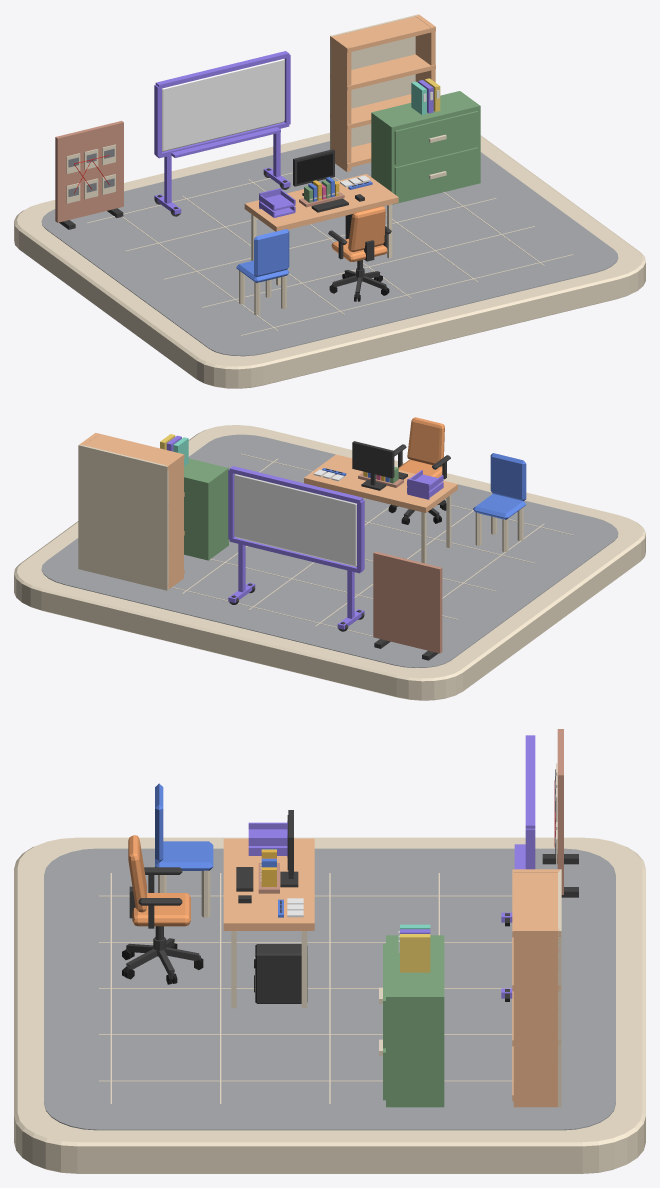
Rendered from room.fbx.
The picture shows the model from 3 angles, top to bottom: view 1: azimuth 30°, elevation 25°; view 2: azimuth 150°, elevation 25°; view 3: azimuth 270°, elevation 25°; orthographic projection. The views are drawn at different scales.
Parts seen in each view (by area): view 1: COM-02 Floor Surface, COM-01 Rounded Base Direct, Cabinet, Writing surface, Panel, Top, Back, COM-04_Chair_blender_direct, Side, Shelf.003, Shelf.002, Backrest (+7 smaller); view 2: COM-02 Floor Surface, COM-01 Rounded Base Direct, Back, Writing surface, Panel, Cabinet, Top, COM-04_Chair_blender_direct, Side, Backrest, Frame, Shelf.003 (+5 smaller); view 3: COM-02 Floor Surface, COM-01 Rounded Base Direct, Cabinet, Side.001, Top, COM-04_Chair_blender_direct, Shelf.003, Tower, Seat, File.002, Panel, Frame rail.001 (+5 smaller).
Boxes of the visible parts, x1,y1,x2,y2 form: COM-02 Floor Surface: (41,141,618,356); COM-01 Rounded Base Direct: (14,132,645,388); Cabinet: (371,91,480,204); Writing surface: (162,58,284,151); Panel: (55,121,123,222); Top: (244,174,398,285); Back: (330,14,418,149); COM-04_Chair_blender_direct: (328,206,391,301); Side: (330,35,351,171); Shelf.003: (330,16,435,52); Shelf.002: (330,54,435,90); Backrest: (254,229,289,277); COM-02 Floor Surface: (41,434,618,667); COM-01 Rounded Base Direct: (14,425,645,700); Back: (78,444,168,590); Writing surface: (234,473,356,566); Panel: (373,551,442,653); Cabinet: (184,458,228,560); Top: (304,454,457,563); COM-04_Chair_blender_direct: (388,417,450,524); Side: (164,453,183,589); Backrest: (490,453,526,501); Frame: (352,441,394,490); Shelf.003: (84,433,184,470); COM-02 Floor Surface: (44,848,615,1130); COM-01 Rounded Base Direct: (14,837,645,1173); Cabinet: (379,935,444,1107); Side.001: (513,928,559,1107); Top: (223,838,314,1008); COM-04_Chair_blender_direct: (122,835,203,984); Shelf.003: (512,869,560,937); Tower: (255,944,307,1003); Seat: (155,841,213,870); File.002: (400,934,430,972); Panel: (557,729,563,894); Frame rail.001: (525,735,535,828).
Bounding box in the file's own units: 600 × 196 × 520.
